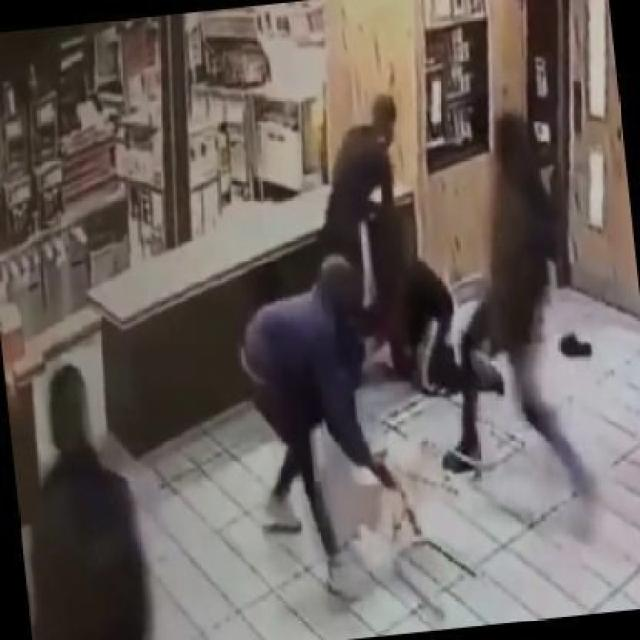fight: (195, 37, 636, 609)
non-fight: (2, 324, 229, 638)
